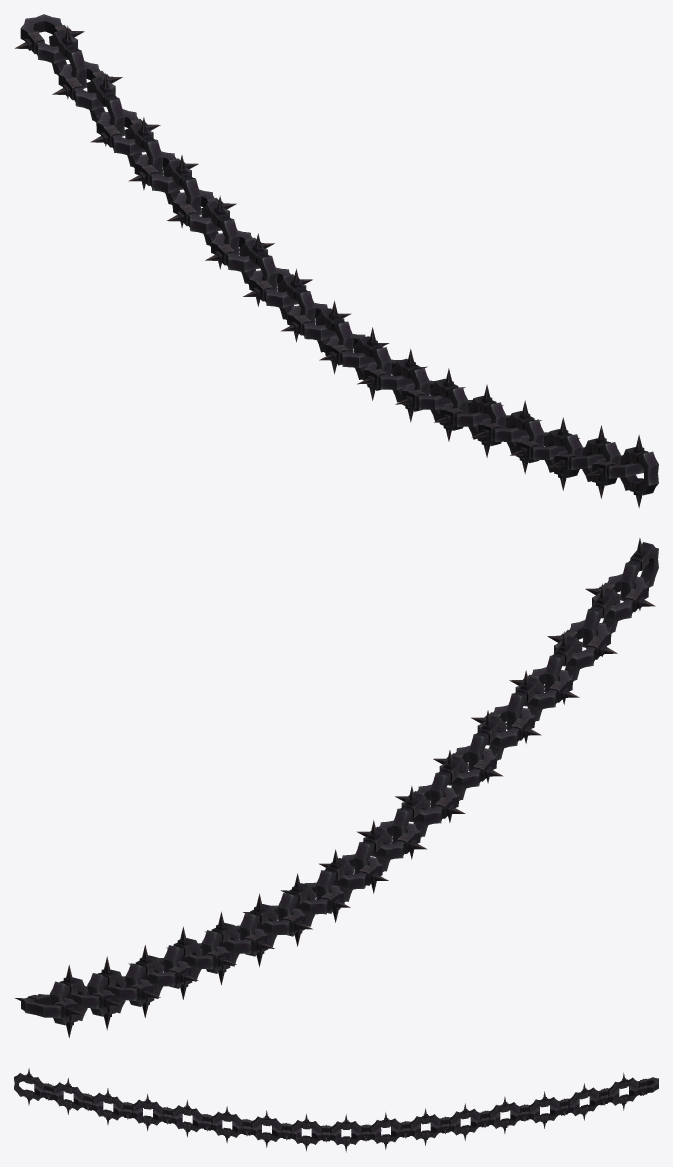
File: Beidaying_yzlianzi.FBX
3 views of the same model, one above another, from view 1: azimuth 30°, elevation 25°; view 2: azimuth 150°, elevation 25°; view 3: azimuth 270°, elevation 25° (orthographic). The views are drawn at different scales.
Visible parts, largest first — view 1: Beidaying_yzlianzi; view 2: Beidaying_yzlianzi; view 3: Beidaying_yzlianzi.
Part boxes in pixels (box(x1,y1,x2,y2)): Beidaying_yzlianzi: box(14, 14, 658, 508); Beidaying_yzlianzi: box(14, 538, 658, 1037); Beidaying_yzlianzi: box(14, 1068, 658, 1152).
Size of the model in its own units: 71.02 by 1065 by 155.
